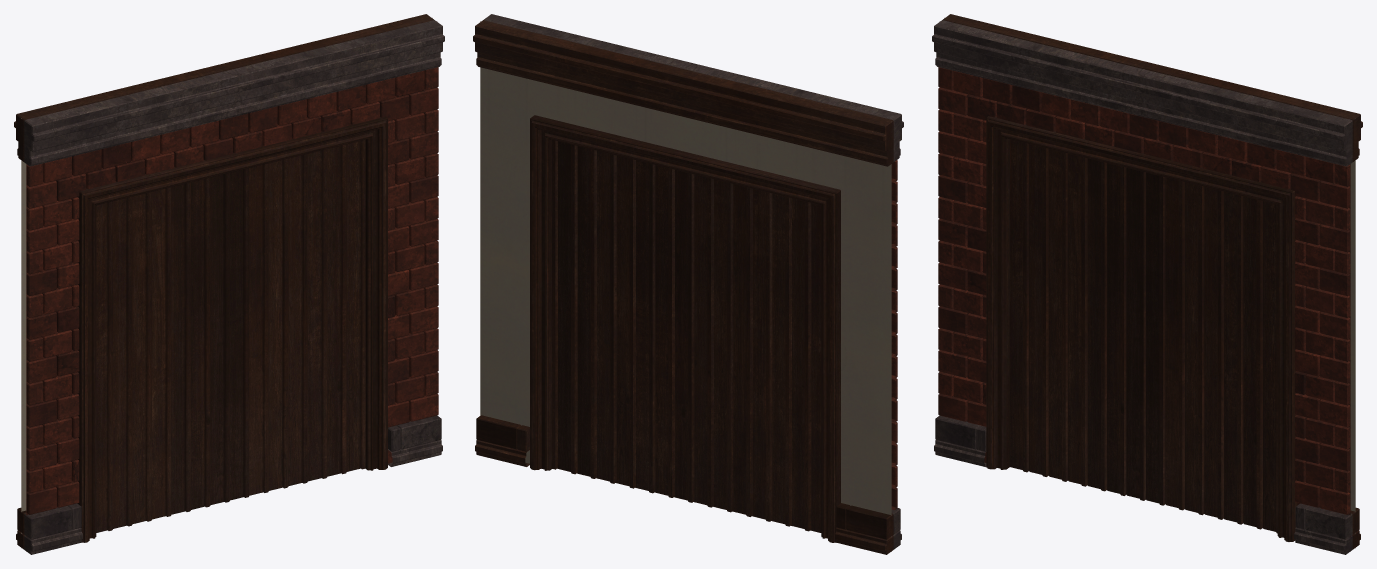
Rendered from SK3 GARAGE.fbx.
The picture shows the model from 3 angles, left to right: view 1: azimuth 30°, elevation 25°; view 2: azimuth 150°, elevation 25°; view 3: azimuth 330°, elevation 25°; orthographic projection.
Parts seen in each view (by area): view 1: SK3 GARAGE; view 2: SK3 GARAGE; view 3: SK3 GARAGE.
Boxes of the visible parts, x1,y1,x2,y2 form: SK3 GARAGE: [14, 14, 444, 554]; SK3 GARAGE: [473, 14, 903, 554]; SK3 GARAGE: [932, 14, 1362, 554].
Size of the model in its own units: 400 by 400 by 34.24.
